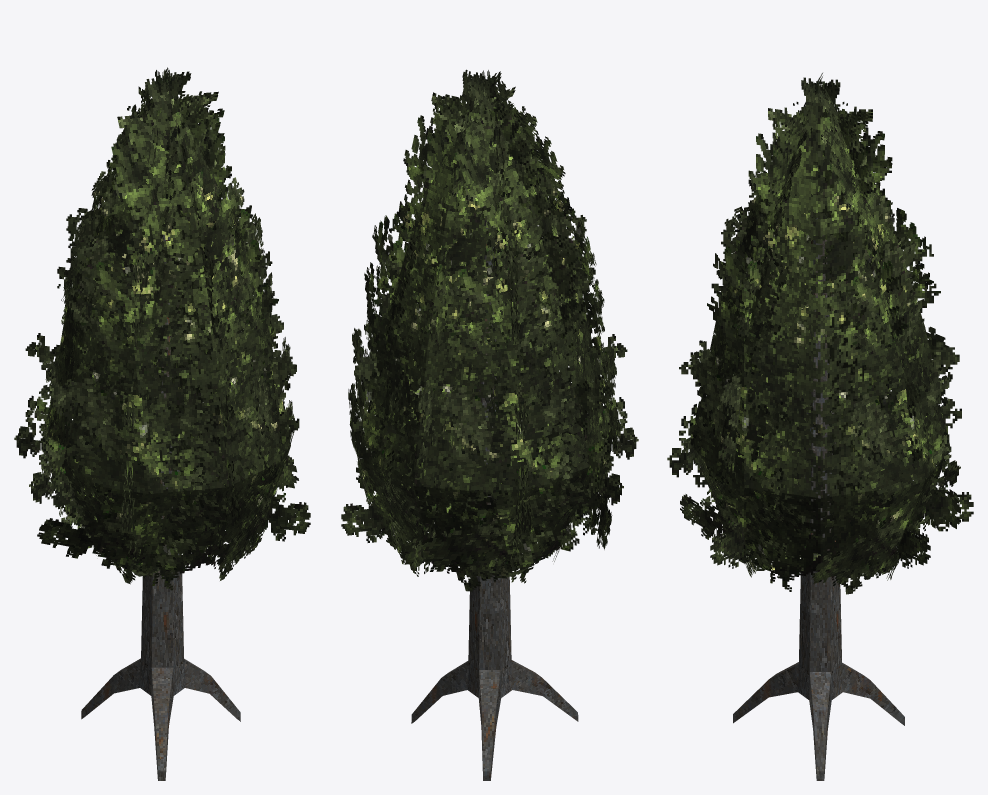
Rendered from tree07.glb.
3 renders of one model, left to right at view 1: azimuth 30°, elevation 25°; view 2: azimuth 150°, elevation 25°; view 3: azimuth 270°, elevation 25°, orthographic.
Visible parts, largest first — view 1: tree07_top, tree07; view 2: tree07_top, tree07; view 3: tree07_top, tree07.
Boxes of the visible parts, x1,y1,x2,y2 form: tree07_top: (14,67,310,590); tree07: (81,234,240,780); tree07_top: (341,69,638,591); tree07: (411,220,578,780); tree07_top: (667,73,973,594); tree07: (733,218,904,780).
Size of the model in its own units: 2.4 by 5.75 by 2.4.
1 material, 1 textured.
